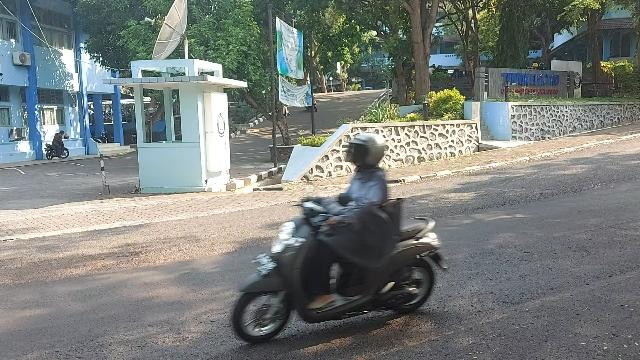helm: (347, 134, 387, 169)
motor: (232, 195, 452, 346)
